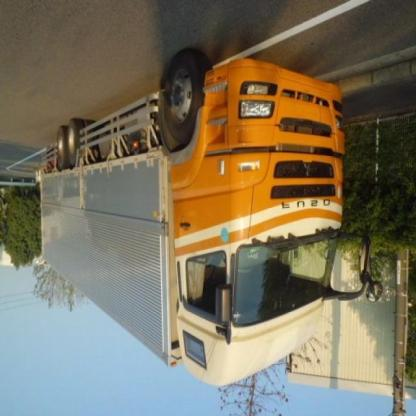truck: (44, 46, 373, 388)
